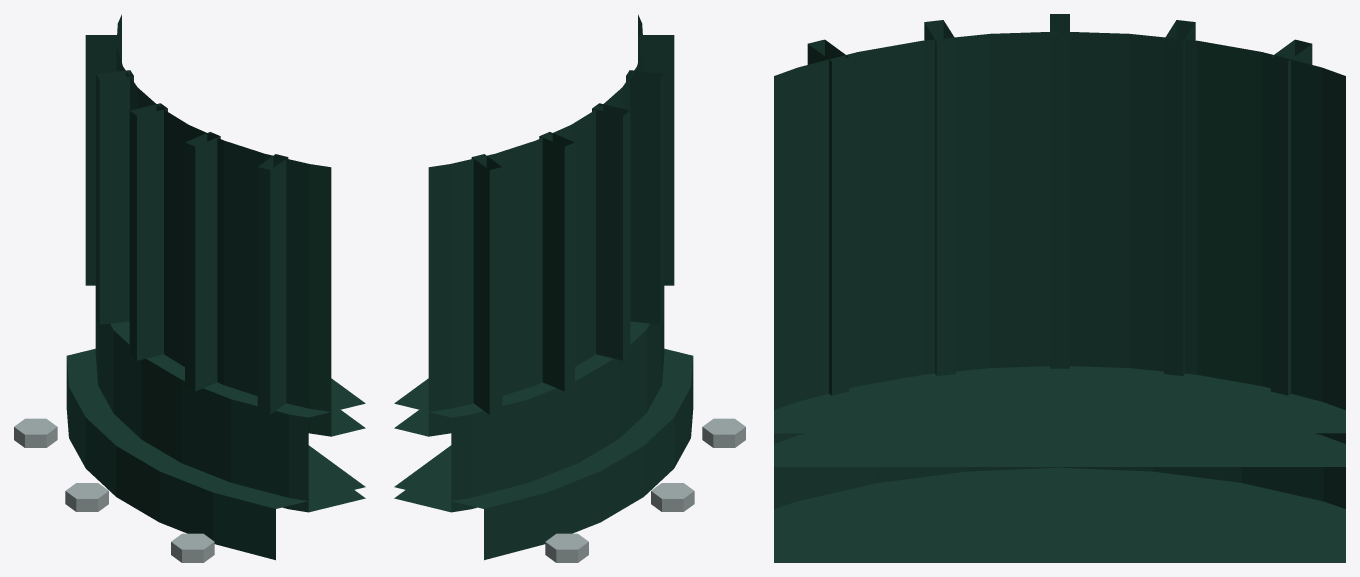
Rendered from cell_39.obj.
3 renders of one model, left to right at view 1: azimuth 30°, elevation 25°; view 2: azimuth 150°, elevation 25°; view 3: azimuth 270°, elevation 25°, orthographic. The views are drawn at different scales.
Size of the model in its own units: 0.525 by 1 by 1.
